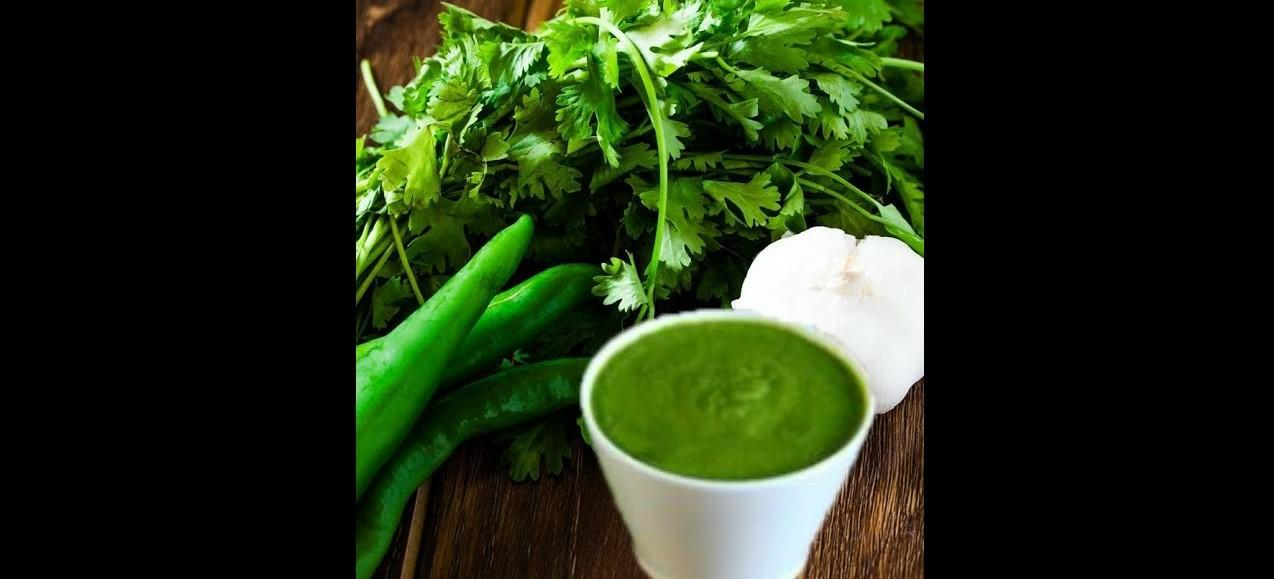GreenChutney: (590, 320, 861, 480)
